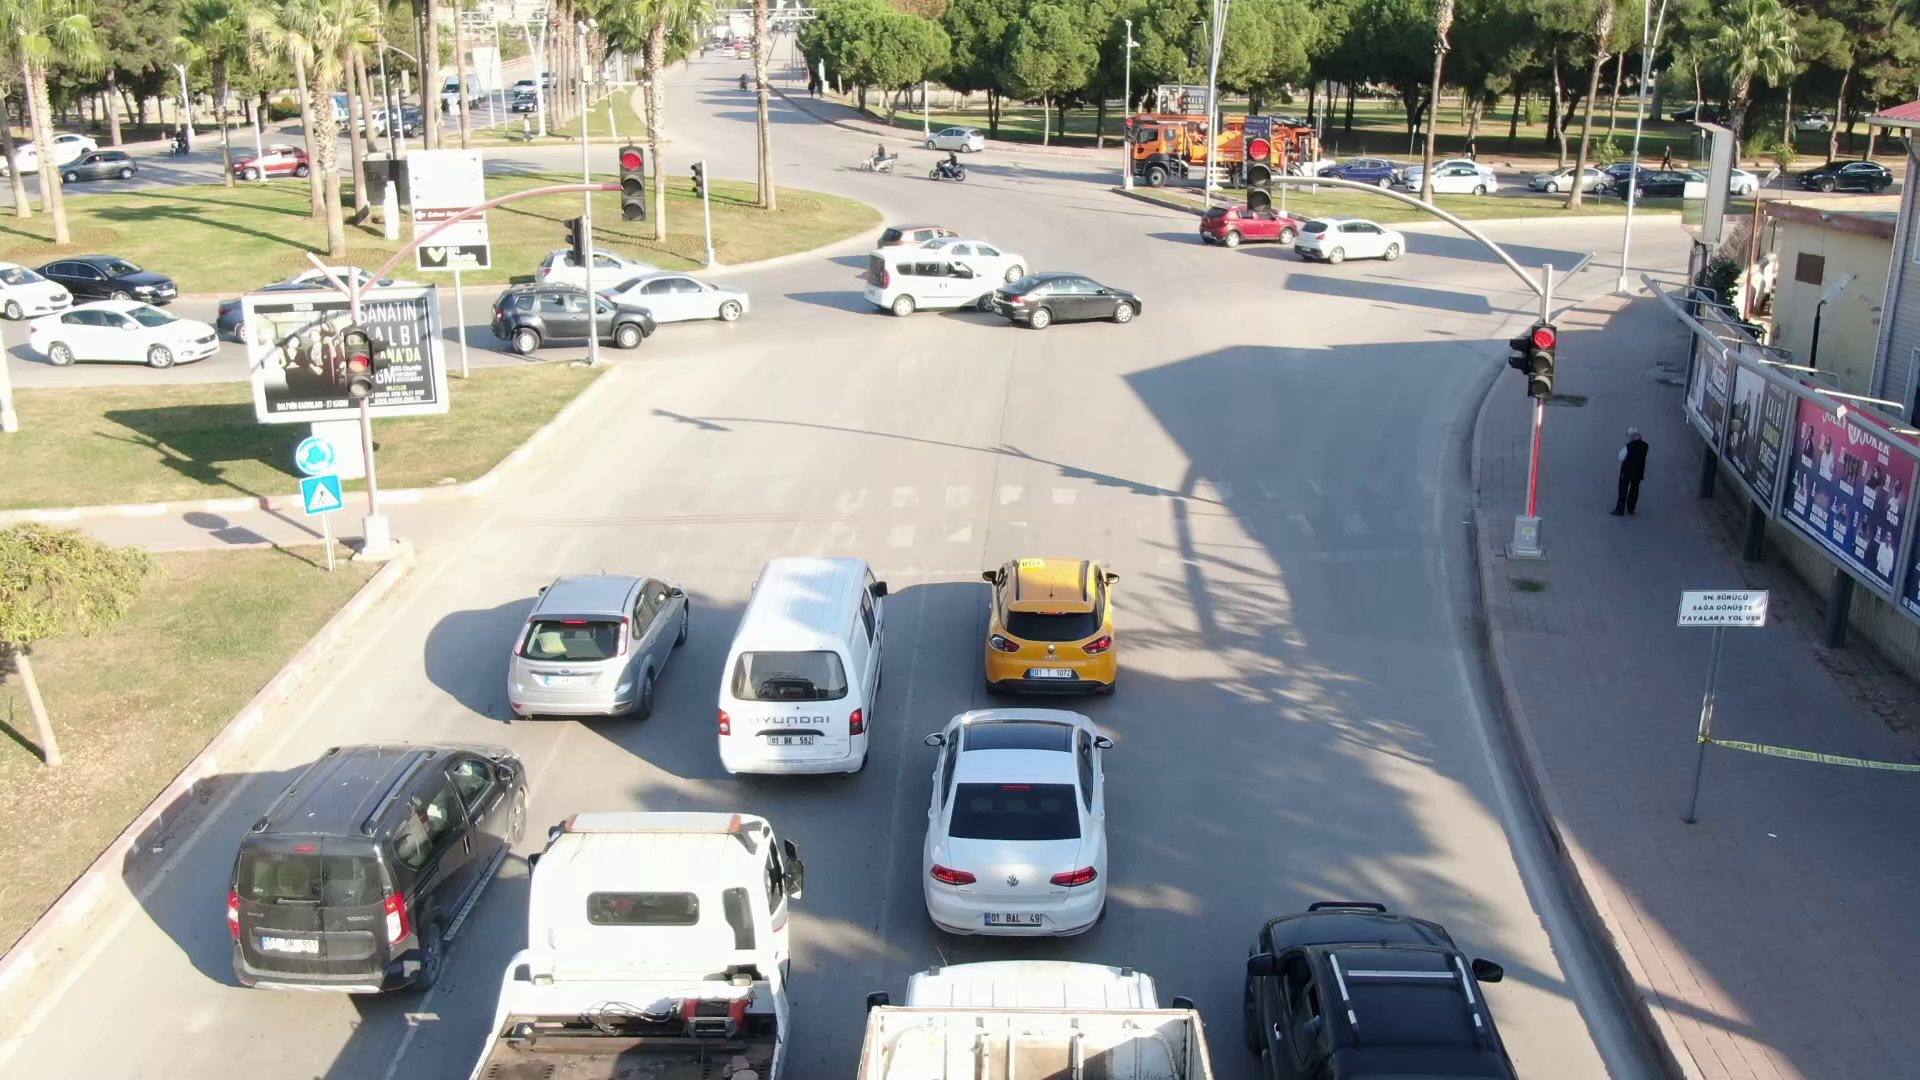car: (223, 738, 524, 992), (918, 705, 1116, 944), (713, 551, 886, 795), (502, 568, 694, 724), (982, 555, 1117, 694), (29, 290, 223, 371), (491, 277, 647, 359), (993, 265, 1150, 334), (862, 247, 1002, 314), (589, 266, 757, 320), (1291, 211, 1407, 265), (1193, 196, 1299, 256), (1793, 154, 1899, 194), (225, 136, 307, 185), (55, 146, 138, 189), (1406, 164, 1501, 199), (1530, 161, 1619, 194), (923, 127, 990, 156)
